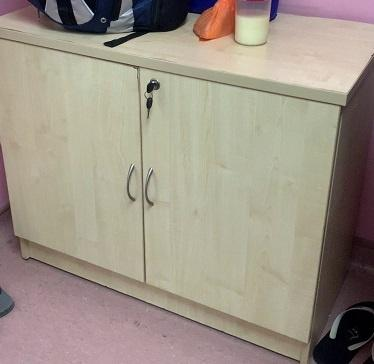cabinet_door: (142, 90, 325, 313), (6, 55, 141, 258)
handle: (143, 167, 155, 210), (125, 164, 136, 207)
